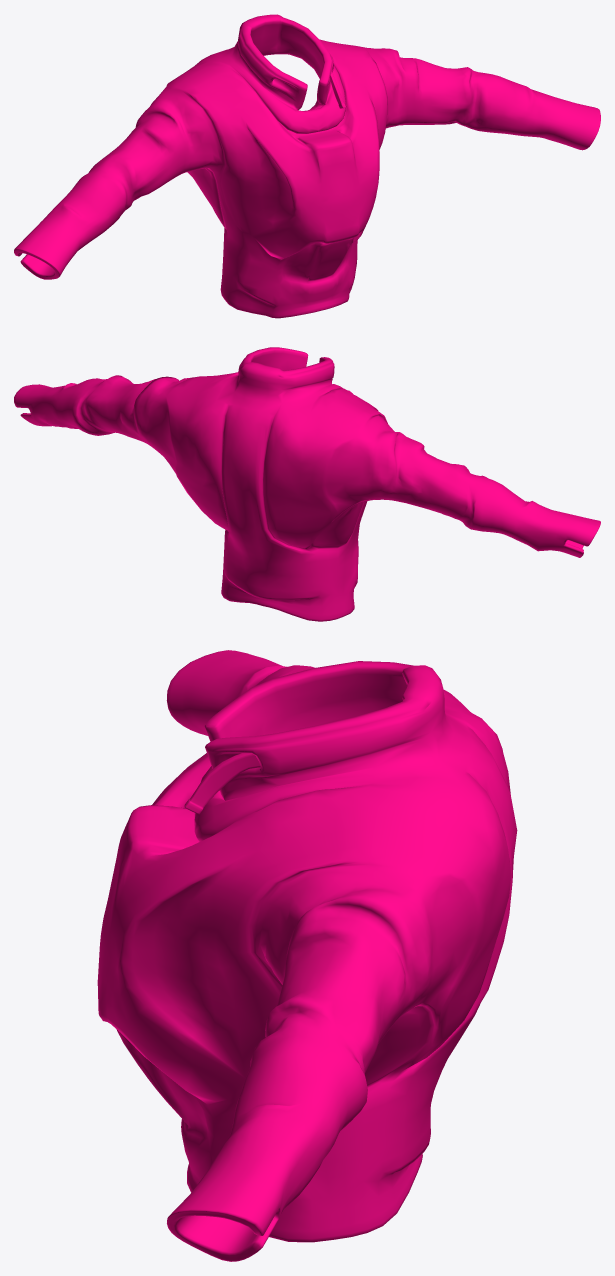
The model's file is armored_jacket-red.glb.
The picture shows the model from 3 angles, top to bottom: view 1: azimuth 30°, elevation 25°; view 2: azimuth 150°, elevation 25°; view 3: azimuth 270°, elevation 25°; orthographic projection. The views are drawn at different scales.
Visible parts, largest first — view 1: armored_jacket_obj_cleaner_materialmerger_gles; view 2: armored_jacket_obj_cleaner_materialmerger_gles; view 3: armored_jacket_obj_cleaner_materialmerger_gles.
Boxes of the visible parts, x1=… form: armored_jacket_obj_cleaner_materialmerger_gles: x1=14, y1=14, x2=600, y2=318; armored_jacket_obj_cleaner_materialmerger_gles: x1=14, y1=347, x2=600, y2=621; armored_jacket_obj_cleaner_materialmerger_gles: x1=97, y1=650, x2=517, y2=1261.
Size of the model in its own units: 188 by 79.47 by 59.11.
